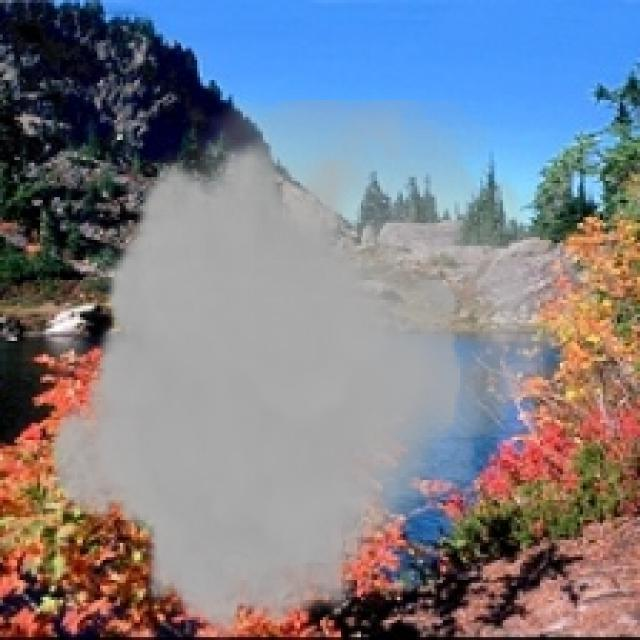Smoke: (45, 100, 578, 637)
